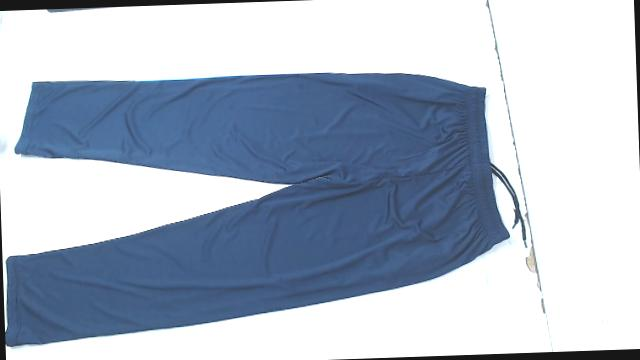new-garment: (5, 73, 508, 346)
